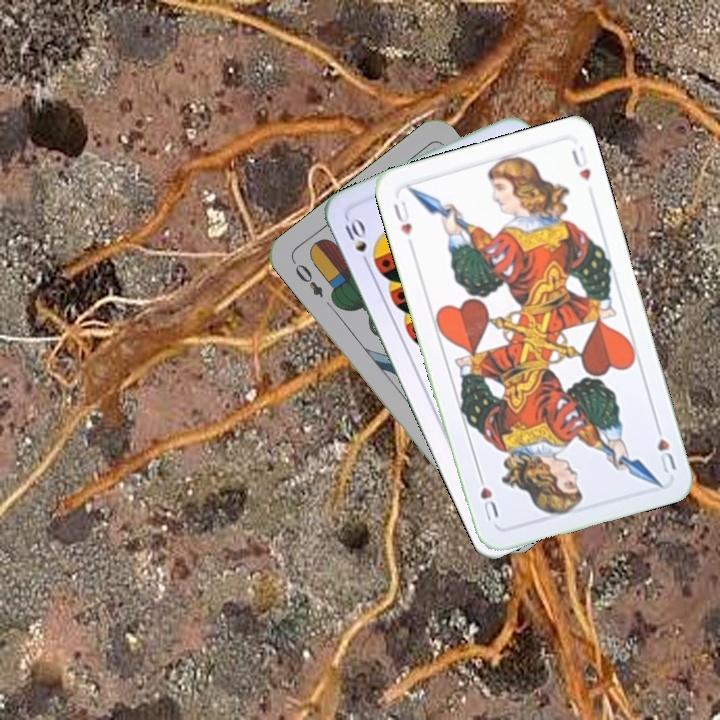EO: (291, 259, 326, 301)
HU: (651, 419, 679, 476), (389, 196, 416, 250)
S10: (340, 213, 373, 270)
